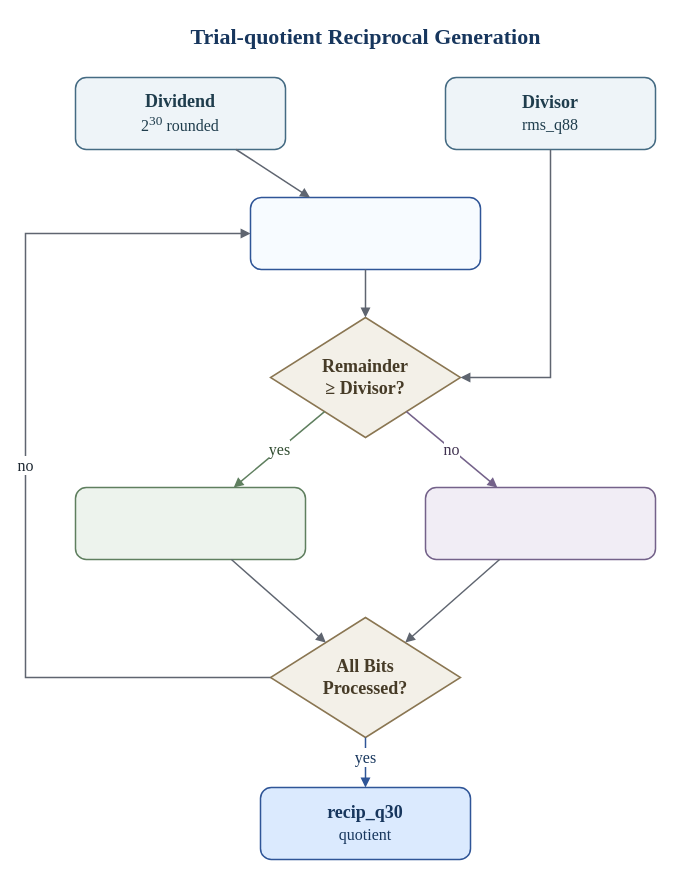
This 673x877 diagram has some shape labels left out. The shapes that lost their labels are listed below. From the top down, each one's centre as x and y in pixels, then its label:
At point (365, 233): "Shift Next Bit Into remainder".
At point (190, 523): "Subtract Divisor quotient bit = 1".
At point (540, 523): "Keep Remainder quotient bit = 0".
